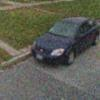cars: (29, 17, 100, 64)
